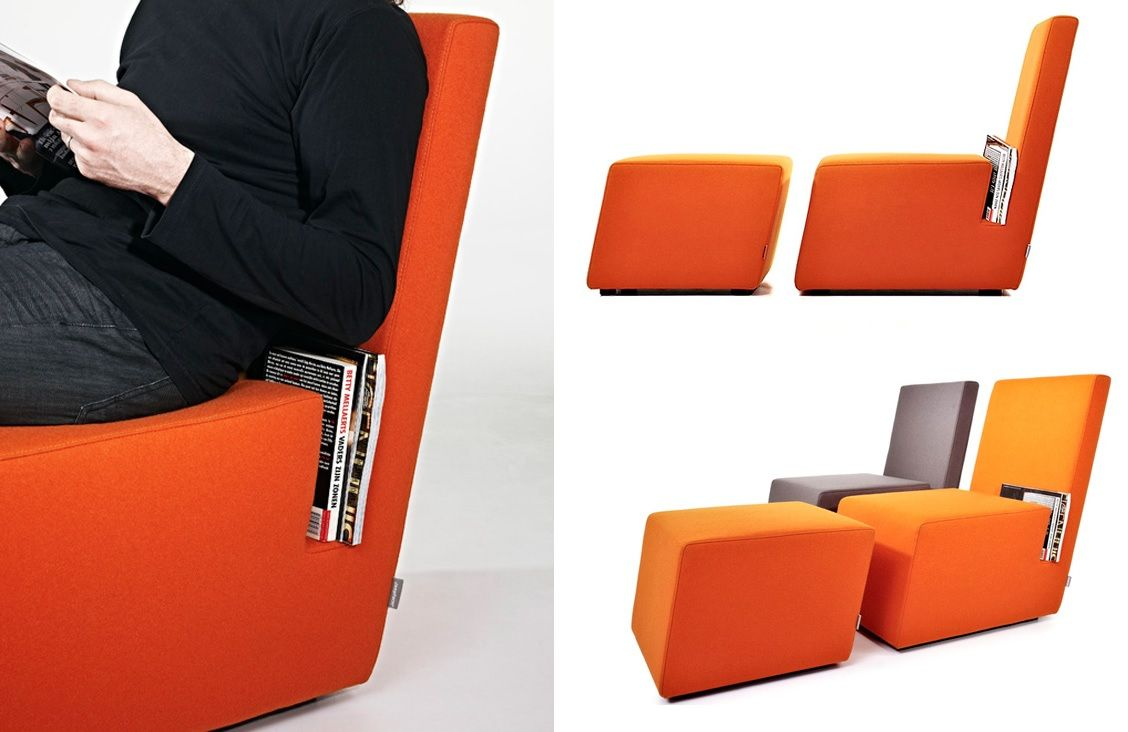chairs: (4, 1, 524, 732), (622, 365, 1117, 702), (579, 14, 1078, 300)
